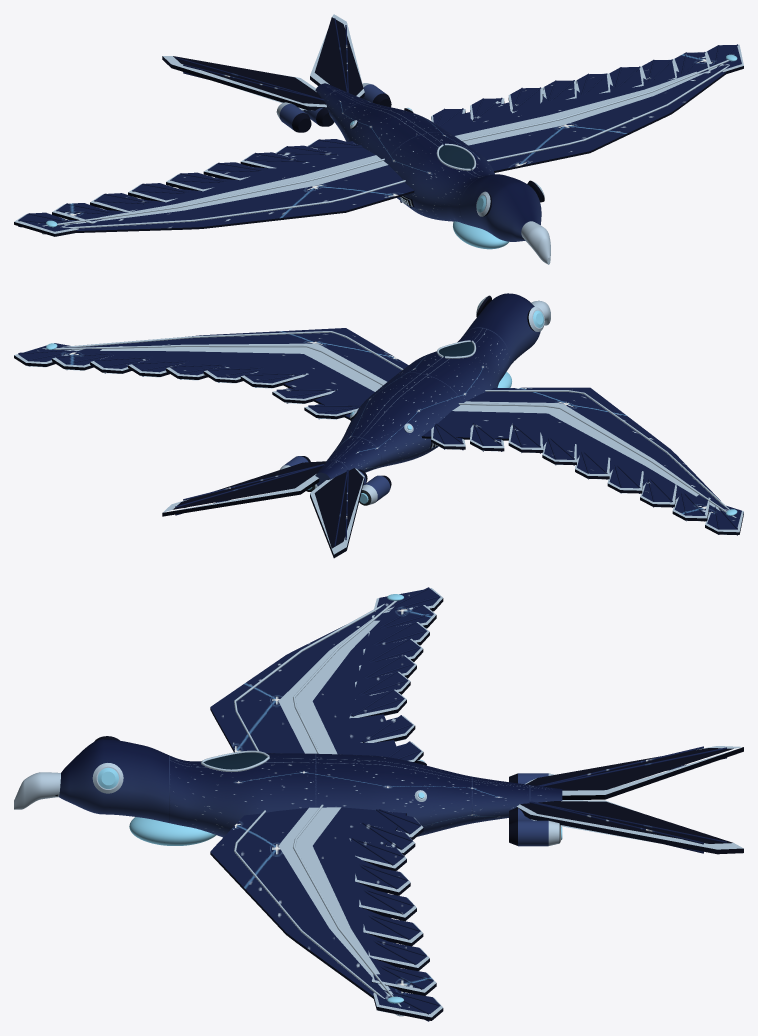
The picture shows the model from 3 angles, top to bottom: view 1: azimuth 30°, elevation 25°; view 2: azimuth 150°, elevation 25°; view 3: azimuth 270°, elevation 25°; orthographic projection. The views are drawn at different scales.
Visible parts, largest first — view 1: frigatebird_hull; view 2: frigatebird_hull; view 3: frigatebird_hull.
Part boxes in pixels (x1,y1,x2,y2): frigatebird_hull: (14, 14, 743, 264); frigatebird_hull: (14, 293, 743, 558); frigatebird_hull: (14, 587, 743, 1021).
Bounding box in the file's own units: 272 × 29 × 195.
Materials: 1 (1 with a texture image).
